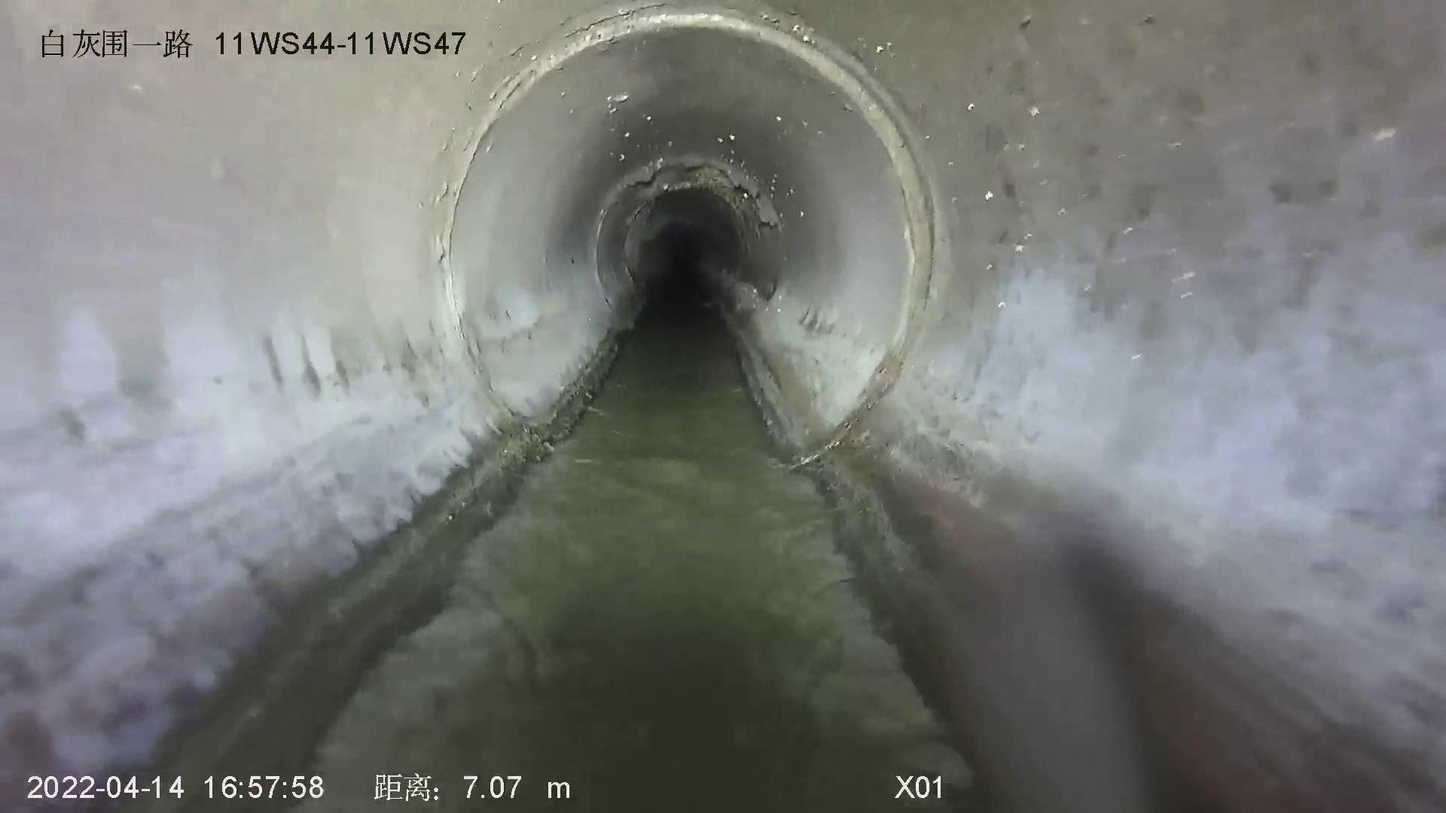CKTJ: (442, 0, 945, 459)
